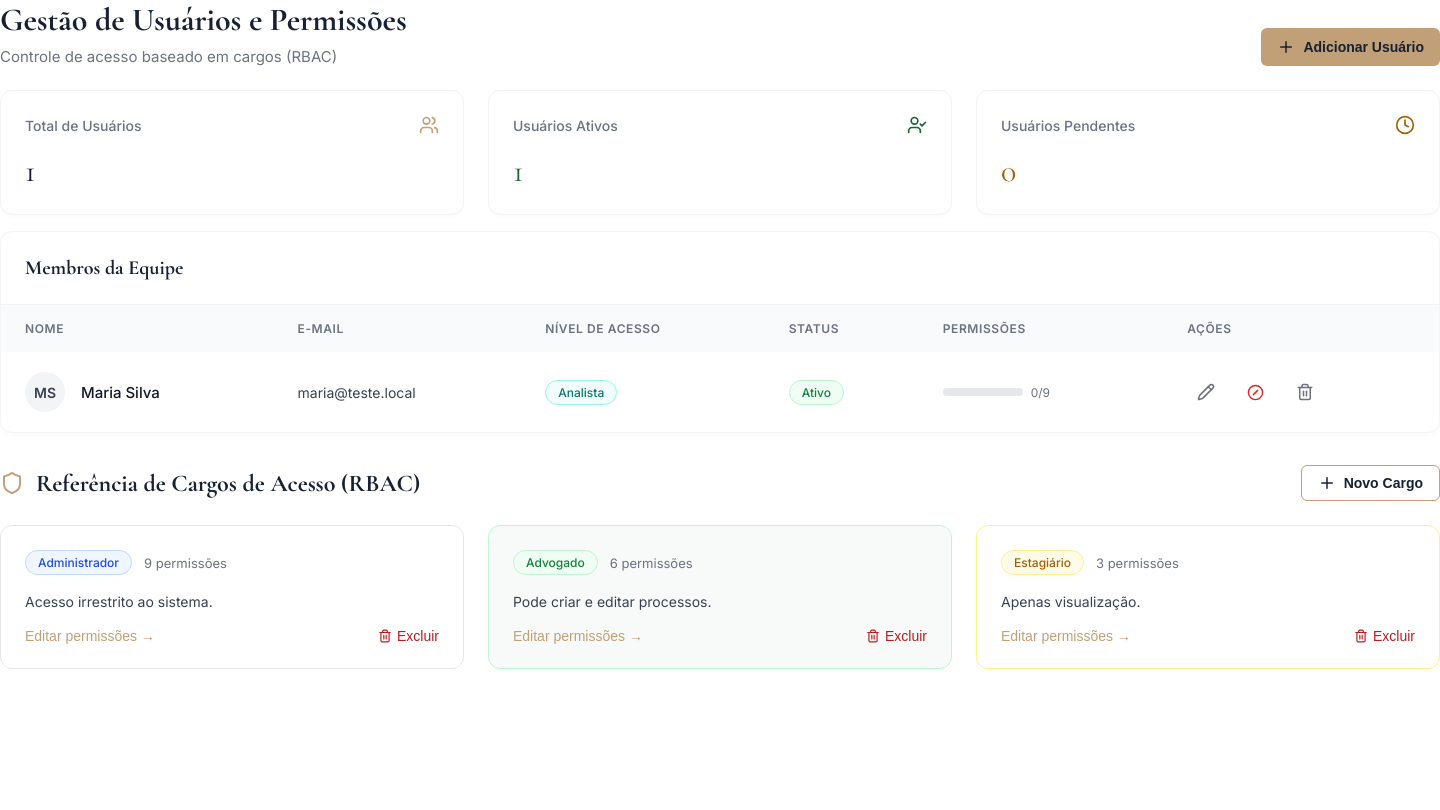
integração da página de equipe › altera o acesso de Ativo para Revogar acesso após confirmar no modal
What coordinates should you click on to do the following:
click the button titled "Revogar acesso"
I would click on:
 (1256, 392)
Its box is [1237, 376, 1274, 408].
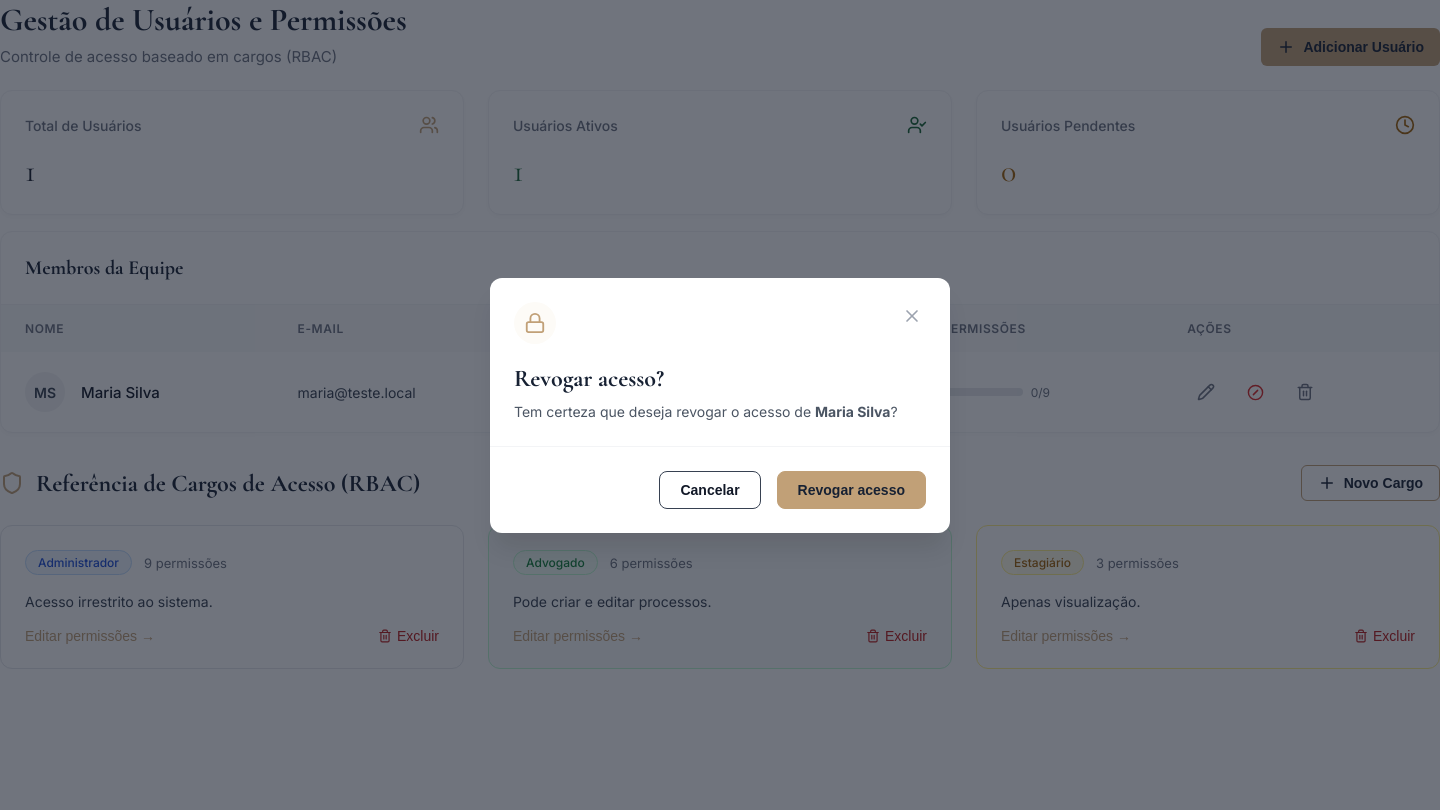
What coordinates should you click on to do the following:
click the button "Revogar acesso"
I would click on:
 (851, 490)
Its box is [777, 470, 926, 508].
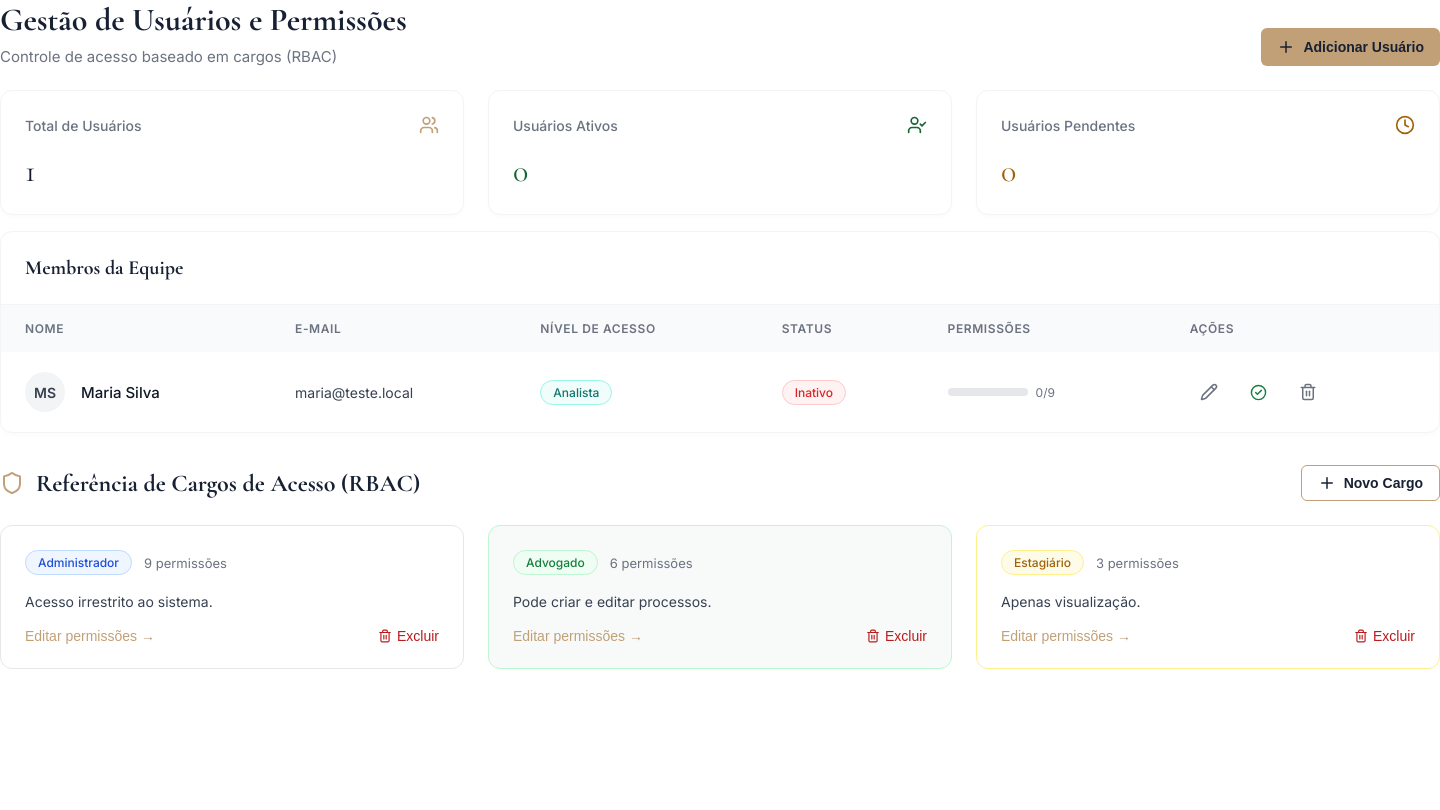
Check: the text "Analista" is shown, box [540, 380, 612, 404]
Check: the text "Inativo" is shown, box [782, 380, 846, 404]
